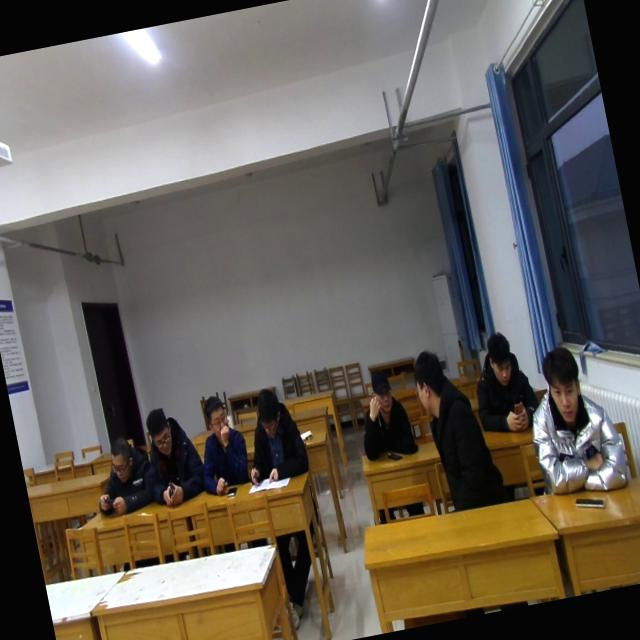bow: (85, 428, 158, 516)
down: (481, 330, 519, 390), (252, 384, 288, 443), (142, 402, 178, 460), (104, 432, 138, 488)
lookup: (535, 342, 588, 431), (362, 365, 398, 419)
sit: (514, 336, 633, 508), (408, 341, 510, 518), (349, 362, 428, 522), (464, 328, 546, 438), (132, 398, 212, 508), (235, 384, 312, 488), (186, 391, 255, 498)
